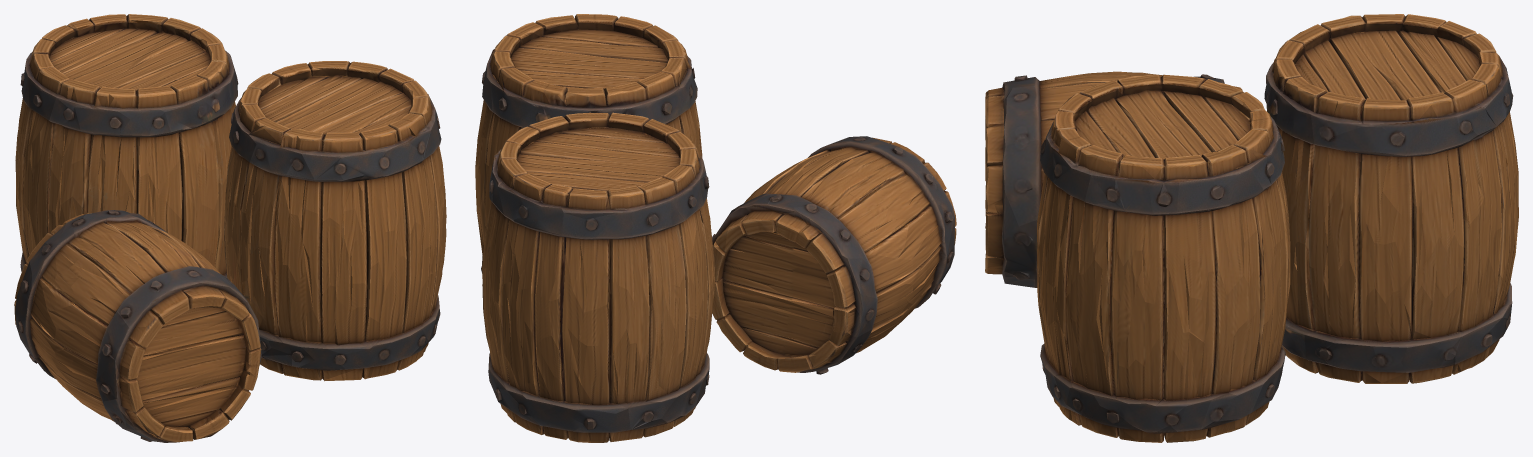
File: barrels.glb
3 views of the same model, side by side, from view 1: azimuth 30°, elevation 25°; view 2: azimuth 150°, elevation 25°; view 3: azimuth 270°, elevation 25° (orthographic). The views are drawn at different scales.
Bounding box in the file's own units: 1.86 × 1.11 × 1.89.
Materials: 1 (1 with a texture image).
